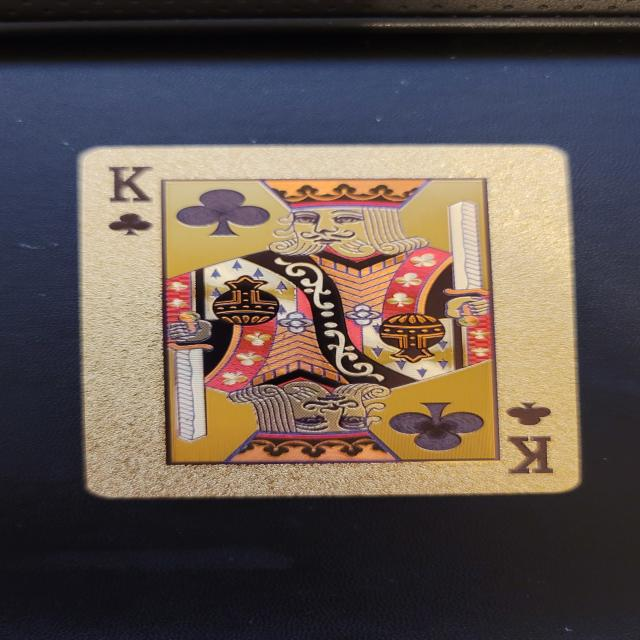King of clubs: (72, 144, 584, 501)
